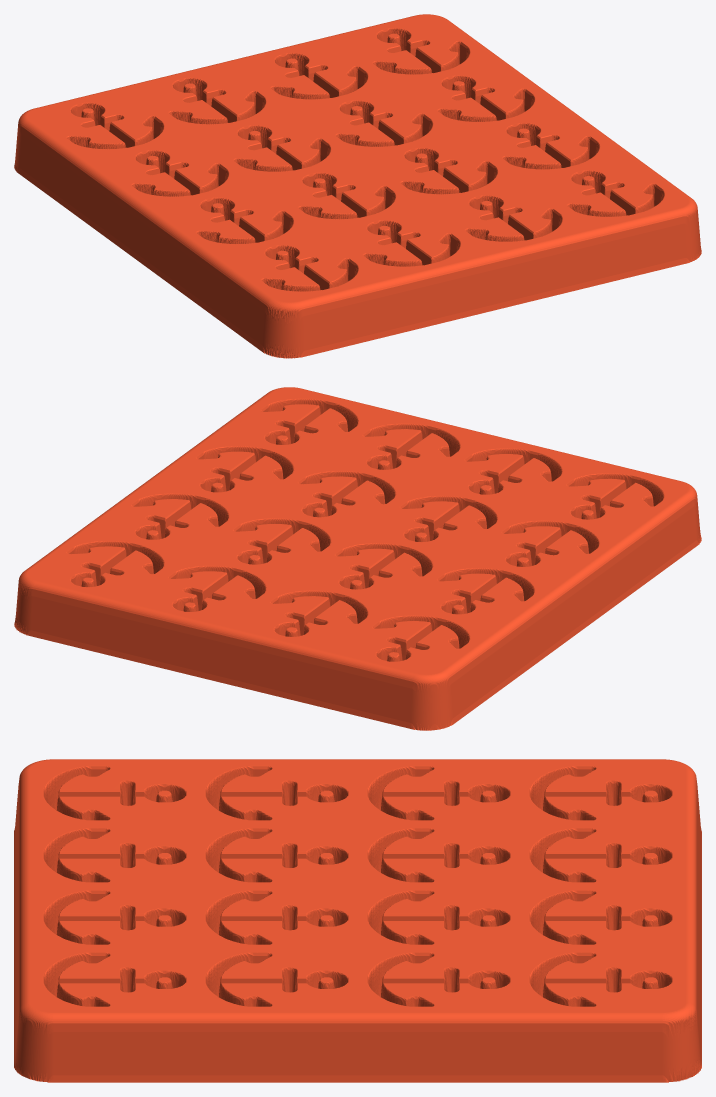
Rendered from mold.glb.
The picture shows the model from 3 angles, top to bottom: view 1: azimuth 30°, elevation 25°; view 2: azimuth 150°, elevation 25°; view 3: azimuth 270°, elevation 25°; orthographic projection. The views are drawn at different scales.
Parts seen in each view (by area): view 1: geometry_0; view 2: geometry_0; view 3: geometry_0.
Boxes of the visible parts, bbox=[...] form: geometry_0: bbox=[14, 14, 701, 358]; geometry_0: bbox=[14, 387, 701, 730]; geometry_0: bbox=[14, 759, 701, 1082].
Bounding box in the file's own units: 0.1434 × 0.0159 × 0.1569.
